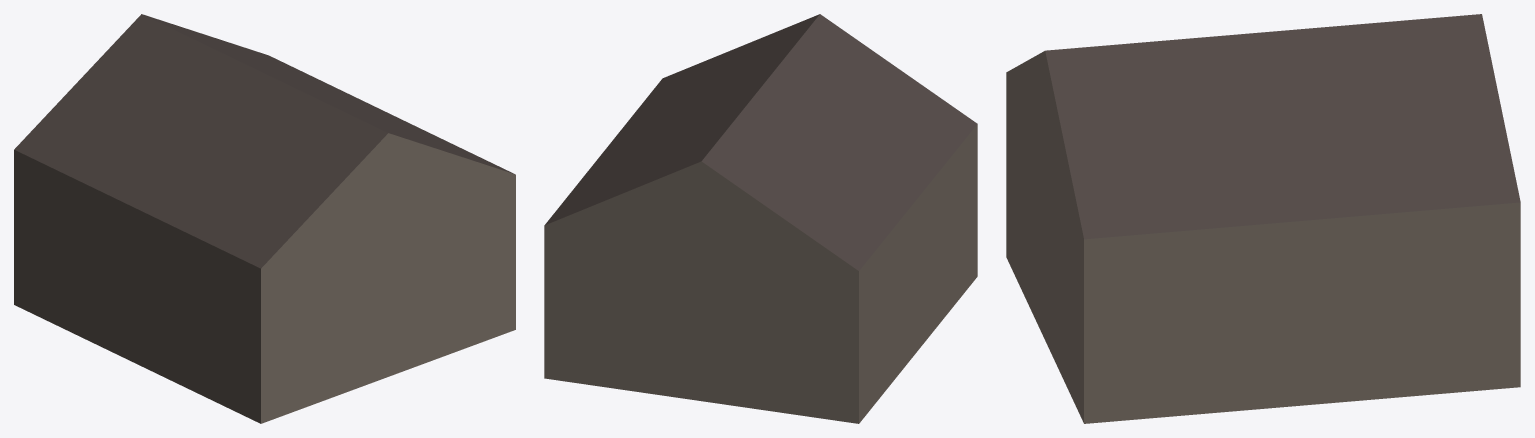
The picture shows the model from 3 angles, left to right: view 1: azimuth 30°, elevation 25°; view 2: azimuth 150°, elevation 25°; view 3: azimuth 270°, elevation 25°; orthographic projection. The views are drawn at different scales.
Visible parts, largest first — view 1: HP-w859447895; view 2: HP-w859447895; view 3: HP-w859447895.
Boxes of the visible parts, x1,y1,x2,y2 form: HP-w859447895: [14, 14, 515, 423]; HP-w859447895: [544, 14, 977, 423]; HP-w859447895: [1006, 14, 1520, 423].
Bounding box in the file's own units: 14.19 × 9.42 × 15.16.
